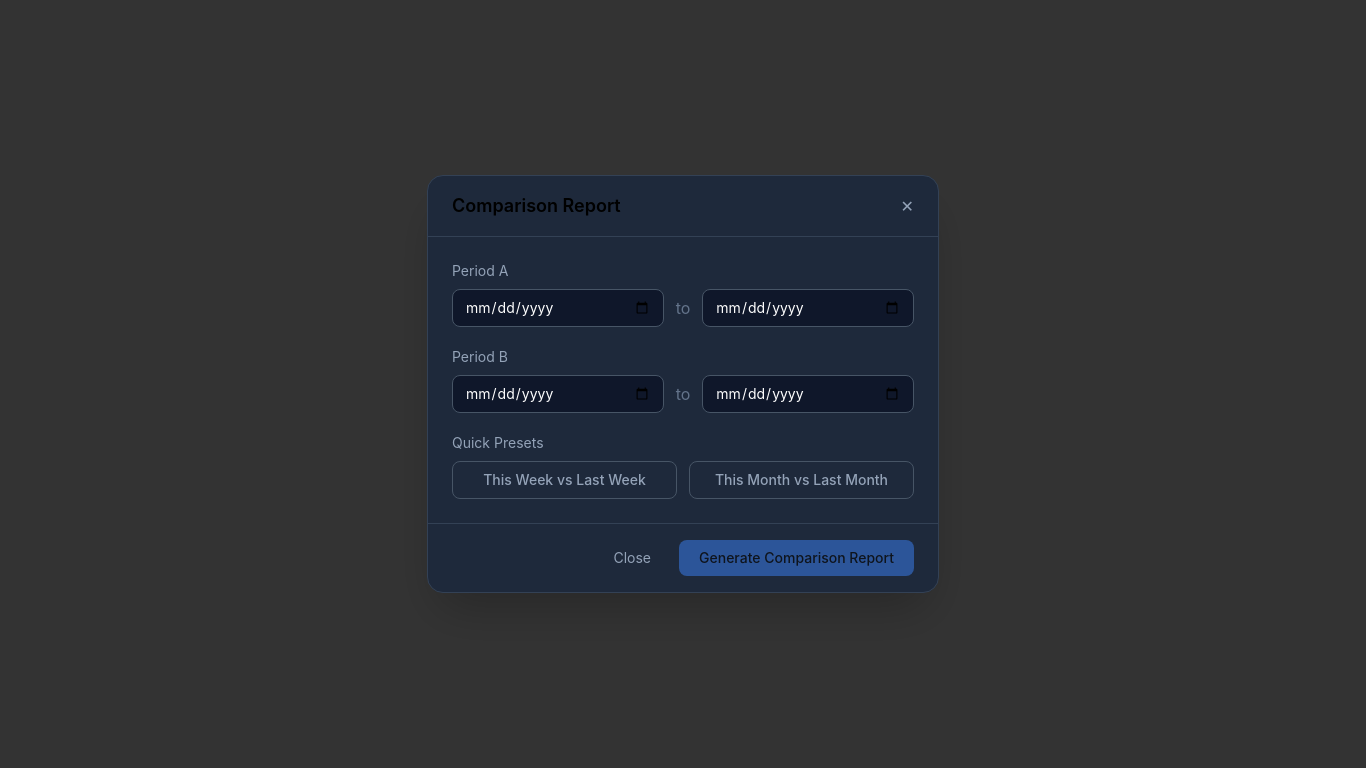
Scenario: ReportComparisonModal › Generate Comparison › shows result path in UI
This screenshot has width=1366, height=768.
Step 1. Type "2026-03-01" into the 1st date field → [558, 308], box [452,289,664,327]
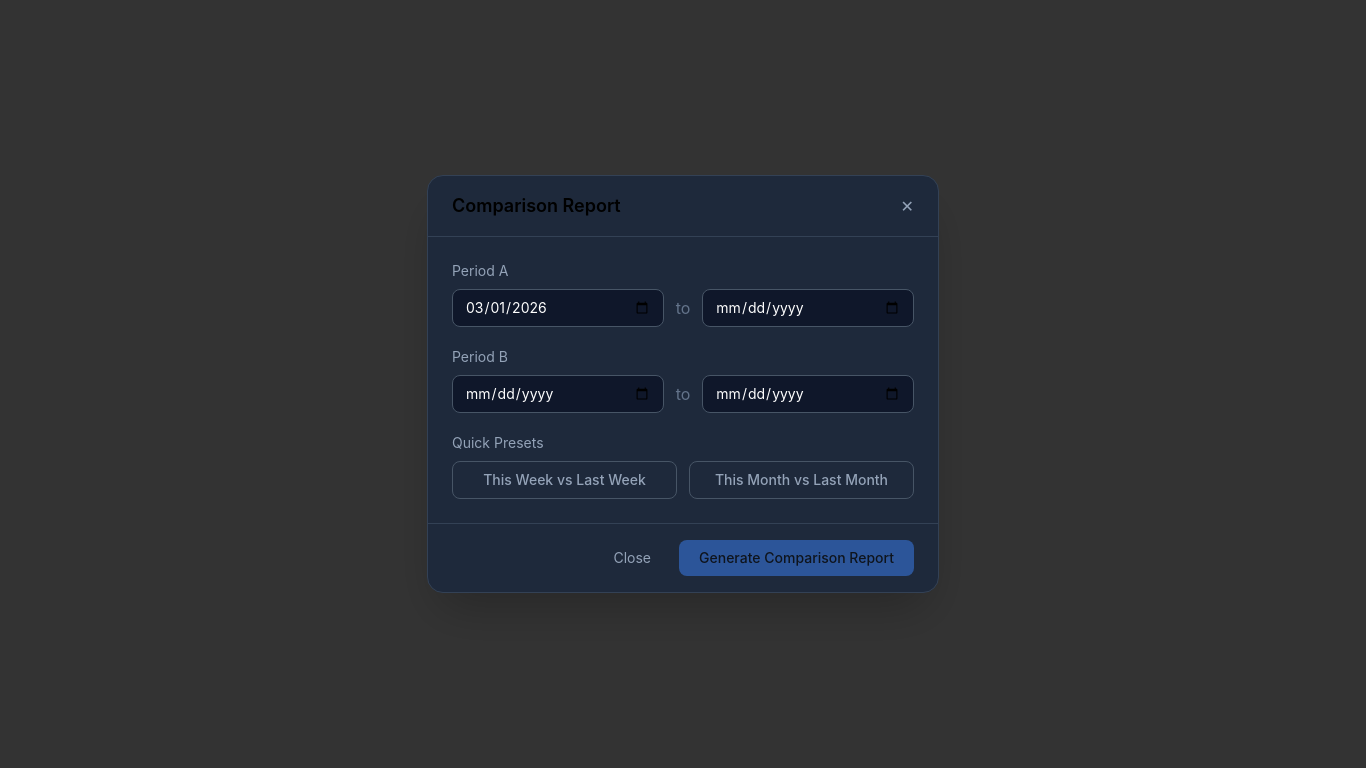
Step 2. Type "2026-03-07" into the 2nd date field → [808, 308], box [702,289,914,327]
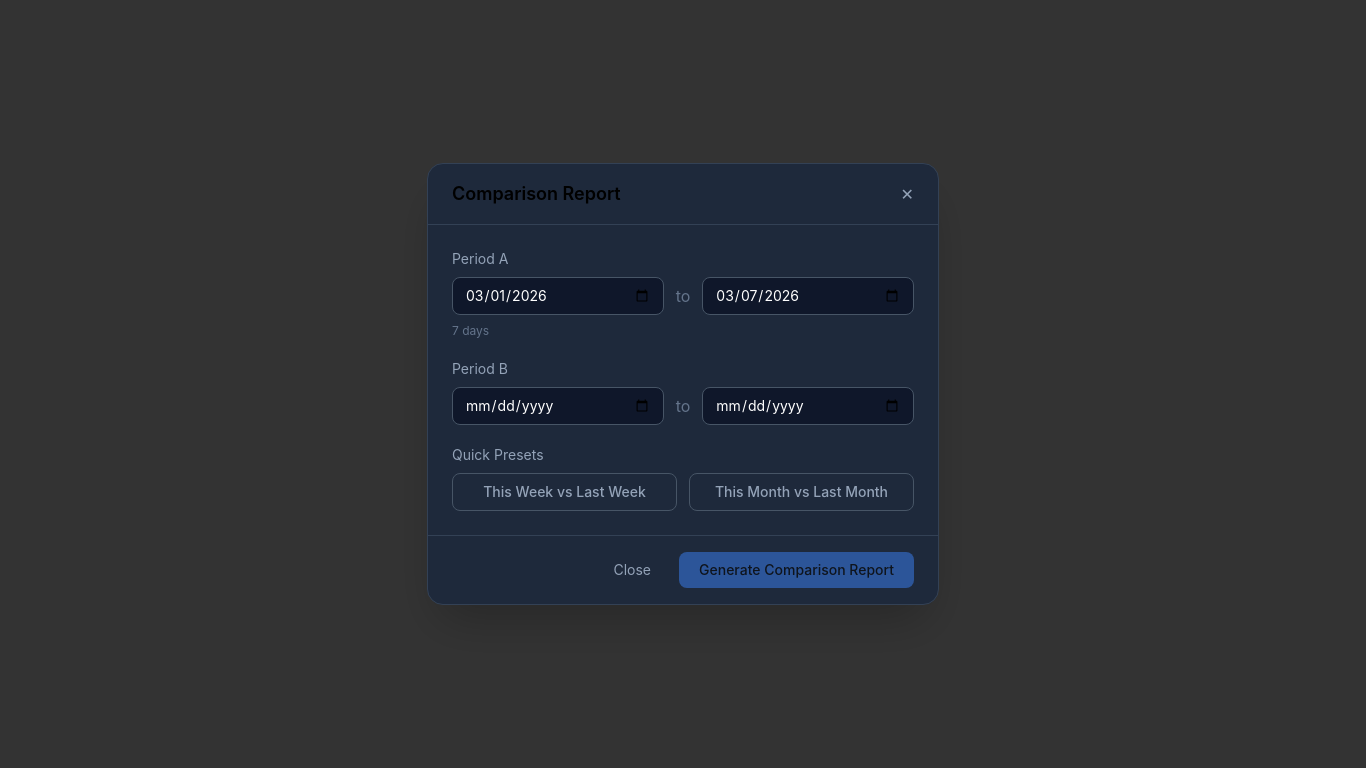
Step 3. Type "2026-03-08" into the 3rd date field → [558, 406], box [452,387,664,425]
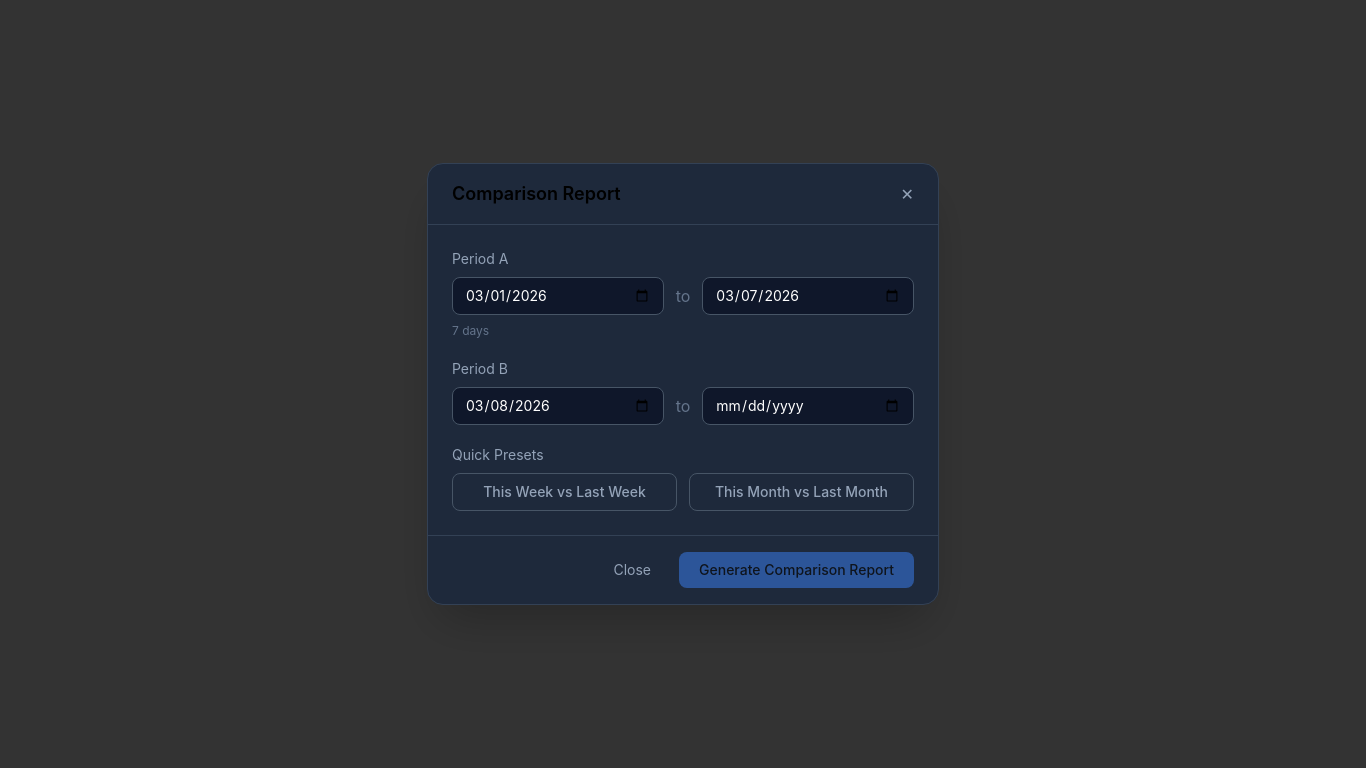
Step 4. Type "2026-03-14" into the 4th date field → [808, 406], box [702,387,914,425]
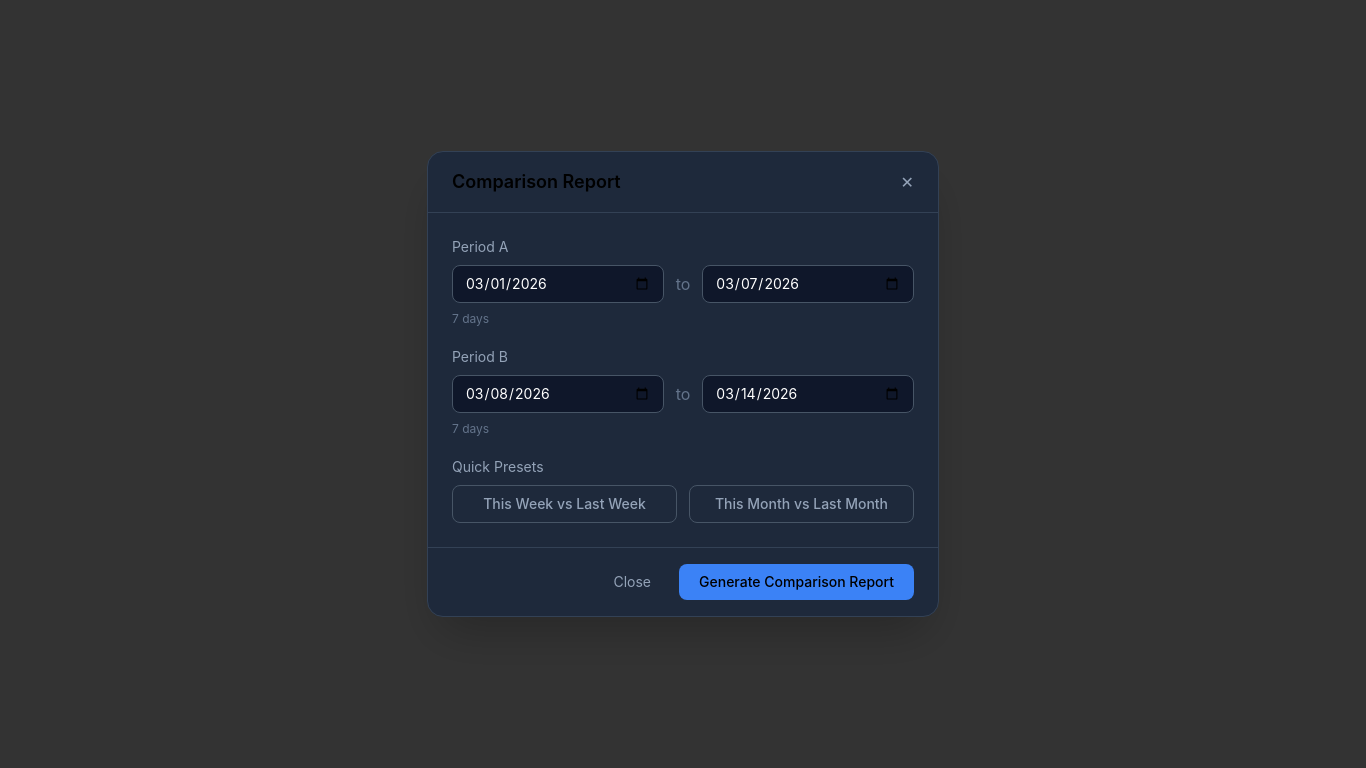
Step 5. Click the button "Generate Comparison Report" → [796, 582], box [679,564,914,600]
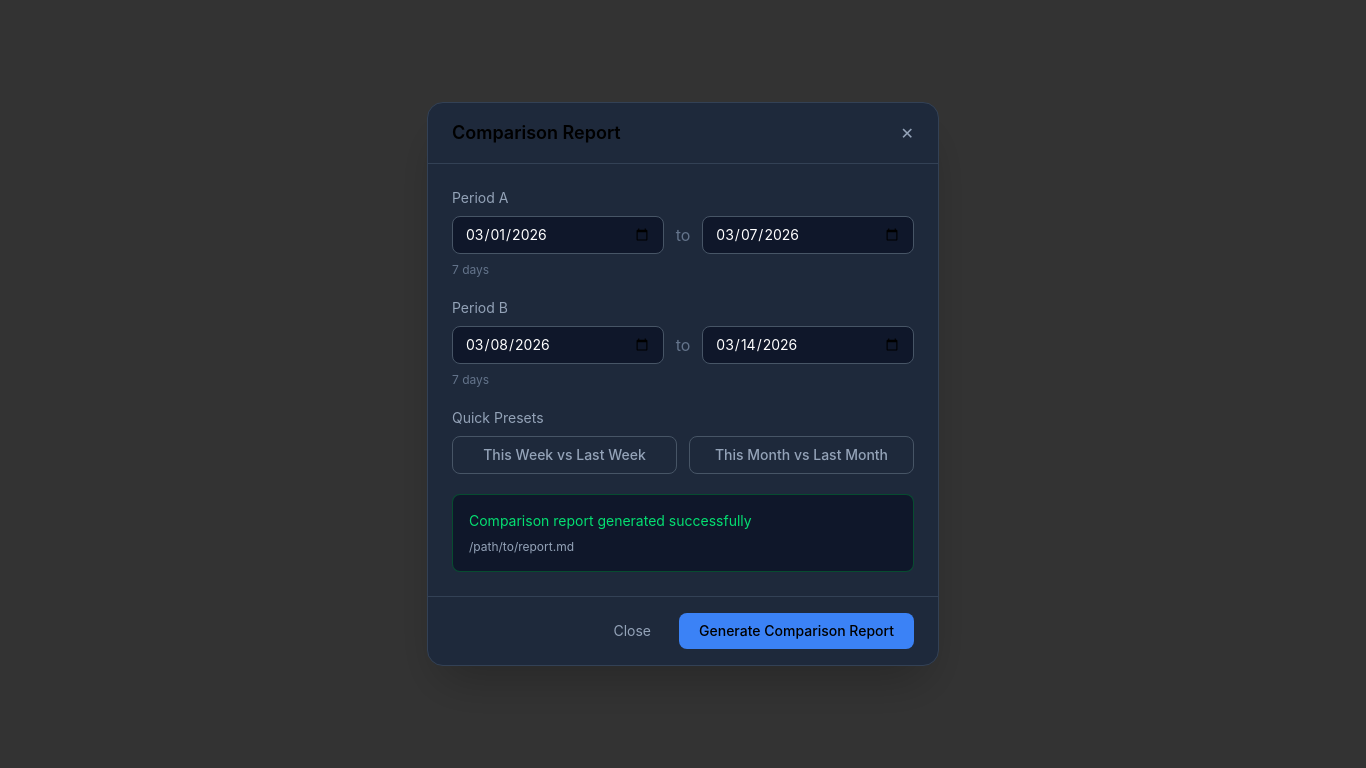
Result: the element showing "Comparison report generated successfully /path/to/report.md" is shown at [452,494,914,572]
